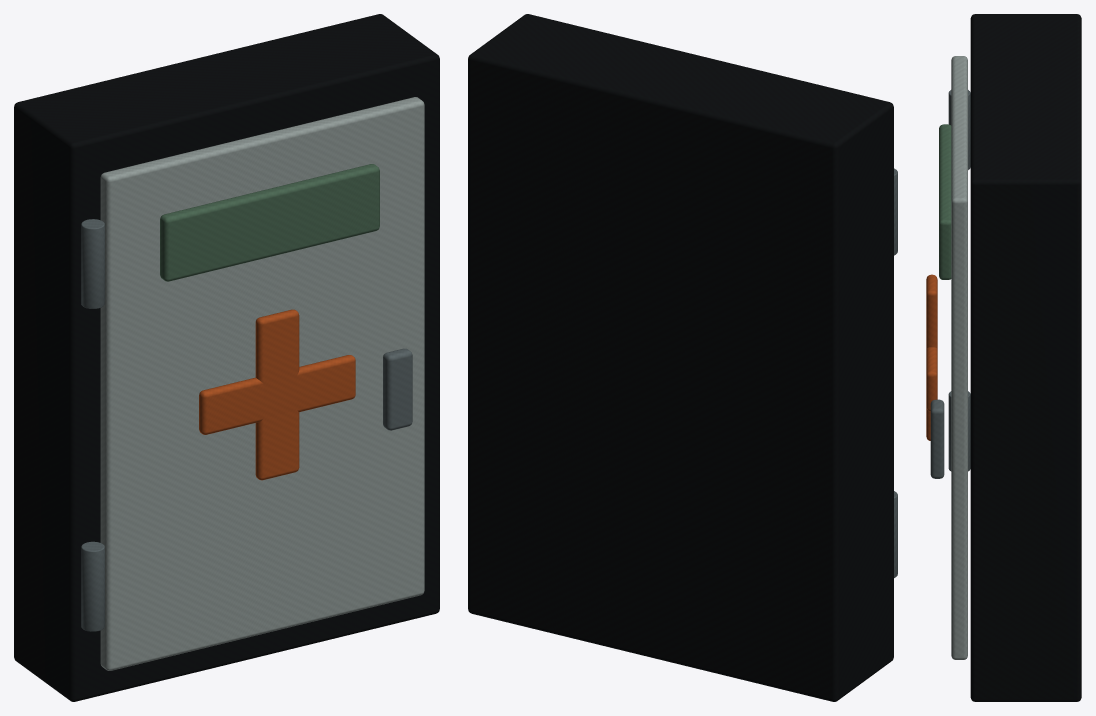
Rendered from WallFirstAidDispenser.fbx.
The picture shows the model from 3 angles, left to right: view 1: azimuth 30°, elevation 25°; view 2: azimuth 150°, elevation 25°; view 3: azimuth 270°, elevation 25°; orthographic projection. The views are drawn at different scales.
Visible parts, largest first — view 1: WallFirstAidDispenser_Mesh; view 2: WallFirstAidDispenser_Mesh; view 3: WallFirstAidDispenser_Mesh.
Boxes of the visible parts, x1=… form: WallFirstAidDispenser_Mesh: x1=14, y1=14, x2=439, y2=701; WallFirstAidDispenser_Mesh: x1=468, y1=14, x2=897, y2=701; WallFirstAidDispenser_Mesh: x1=926, y1=14, x2=1081, y2=701.
Size of the model in its own units: 72 by 104 by 28.
Materials: 5 (5 with a texture image).
